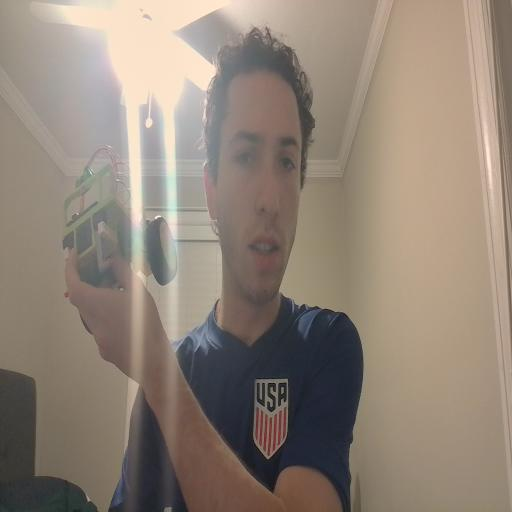green LEGO minifig: (74, 164, 95, 194)
